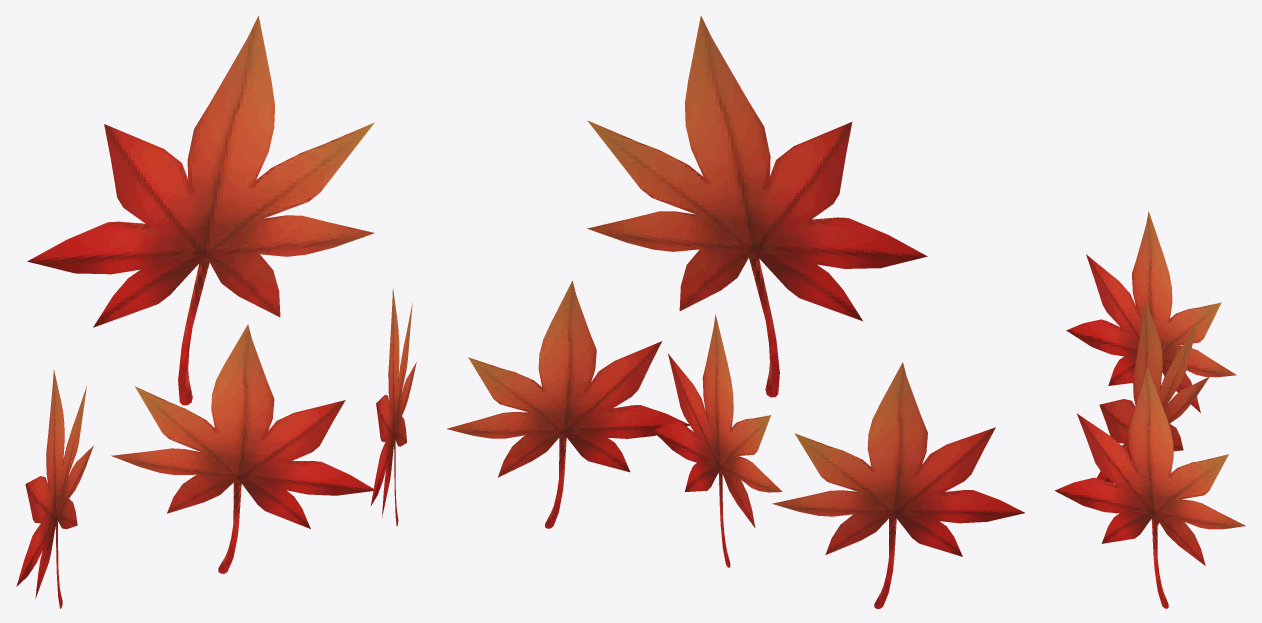
The model's file is ps2_save-icons_hiironokakerashintamayorihimedenshou.glb.
The picture shows the model from 3 angles, left to right: view 1: azimuth 30°, elevation 25°; view 2: azimuth 150°, elevation 25°; view 3: azimuth 270°, elevation 25°; orthographic projection. The views are drawn at different scales.
Parts seen in each view (by area): view 1: SAVE.ICO; view 2: SAVE.ICO; view 3: SAVE.ICO.
Boxes of the visible parts, x1,y1,x2,y2 form: SAVE.ICO: [16, 16, 416, 608]; SAVE.ICO: [447, 16, 1024, 608]; SAVE.ICO: [1054, 211, 1245, 608].
Bounding box in the file's own units: 3.39 × 3.61 × 1.21.
1 material, 1 textured.
